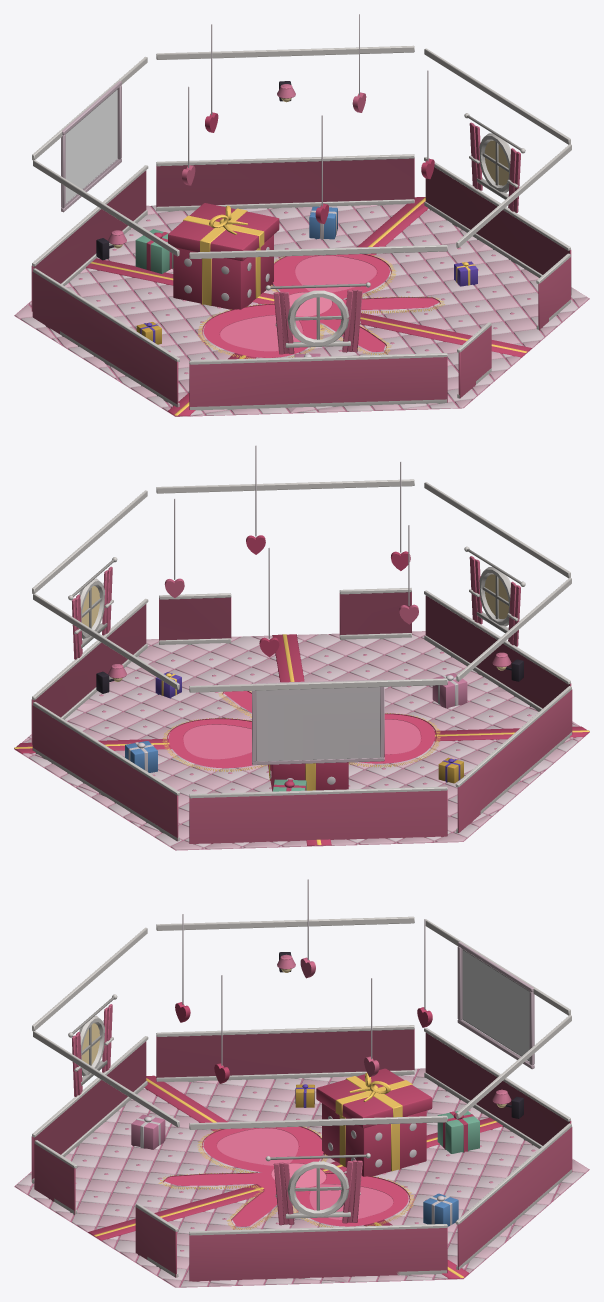
The model's file is zon_room_gift.glb.
3 renders of one model, top to bottom at view 1: azimuth 30°, elevation 25°; view 2: azimuth 150°, elevation 25°; view 3: azimuth 270°, elevation 25°, orthographic.
Visible parts, largest first — view 1: SM_zon_room_gift_room_floor_plaster_xm1_zm1, SM_zon_room_gift_room_rug_fabric_xm1_zm1, ANIM_fur_present_gift_lid__0, SCREEN_fur_screen_gift__0, SM_zon_room_gift_room_floor_gloss_xm1_zm1, SM_zon_room_gift_glow_vc_xm1_zm1; view 2: SM_zon_room_gift_room_floor_plaster_xm1_zm1, SM_zon_room_gift_room_rug_fabric_xm1_zm1, SM_zon_room_gift_glow_vc_xm1_zm1, SM_zon_room_gift_room_floor_gloss_xm1_zm1; view 3: SM_zon_room_gift_room_floor_plaster_xm1_zm1, SM_zon_room_gift_room_rug_fabric_xm1_zm1, SCREEN_fur_screen_gift__0, ANIM_fur_present_gift_lid__0, SM_zon_room_gift_room_floor_gloss_xm1_zm1.
Boxes of the visible parts, x1=… form: SM_zon_room_gift_room_floor_plaster_xm1_zm1: x1=14, y1=14, x2=589, y2=416; SM_zon_room_gift_room_rug_fabric_xm1_zm1: x1=198, y1=254, x2=444, y2=358; ANIM_fur_present_gift_lid__0: x1=168, y1=203, x2=279, y2=261; SCREEN_fur_screen_gift__0: x1=65, y1=90, x2=117, y2=202; SM_zon_room_gift_room_floor_gloss_xm1_zm1: x1=91, y1=197, x2=527, y2=415; SM_zon_room_gift_glow_vc_xm1_zm1: x1=112, y1=98, x2=508, y2=248; SM_zon_room_gift_room_floor_plaster_xm1_zm1: x1=14, y1=445, x2=589, y2=850; SM_zon_room_gift_room_rug_fabric_xm1_zm1: x1=162, y1=691, x2=440, y2=771; SM_zon_room_gift_glow_vc_xm1_zm1: x1=81, y1=574, x2=508, y2=681; SM_zon_room_gift_room_floor_gloss_xm1_zm1: x1=14, y1=634, x2=589, y2=844; SM_zon_room_gift_room_floor_plaster_xm1_zm1: x1=14, y1=879, x2=589, y2=1287; SM_zon_room_gift_room_rug_fabric_xm1_zm1: x1=158, y1=1126, x2=414, y2=1229; SCREEN_fur_screen_gift__0: x1=462, y1=950, x2=529, y2=1060; ANIM_fur_present_gift_lid__0: x1=316, y1=1068, x2=432, y2=1128; SM_zon_room_gift_room_floor_gloss_xm1_zm1: x1=94, y1=1078, x2=496, y2=1277.
Size of the model in its own units: 9.53 by 5 by 10.57.
